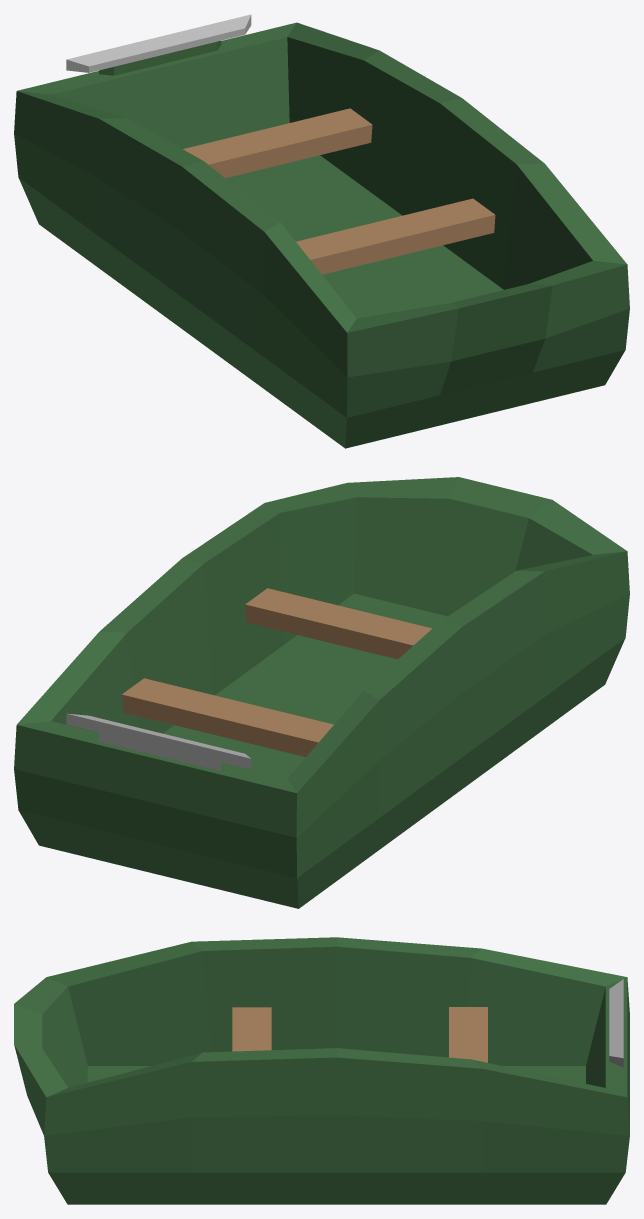
File: Gemi3.fbx
3 views of the same model, one above another, from view 1: azimuth 30°, elevation 25°; view 2: azimuth 150°, elevation 25°; view 3: azimuth 270°, elevation 25° (orthographic). The views are drawn at different scales.
Visible parts, largest first — view 1: Cube.001, Cube; view 2: Cube.001, Cube; view 3: Cube.001, Cube.
Boxes of the visible parts, x1,y1,x2,y2 form: Cube.001: [14, 14, 629, 448]; Cube: [183, 108, 495, 274]; Cube.001: [14, 477, 629, 908]; Cube: [122, 588, 432, 756]; Cube.001: [14, 937, 629, 1204]; Cube: [232, 1007, 487, 1062].
Bounding box in the file's own units: 215 × 125 × 461.
